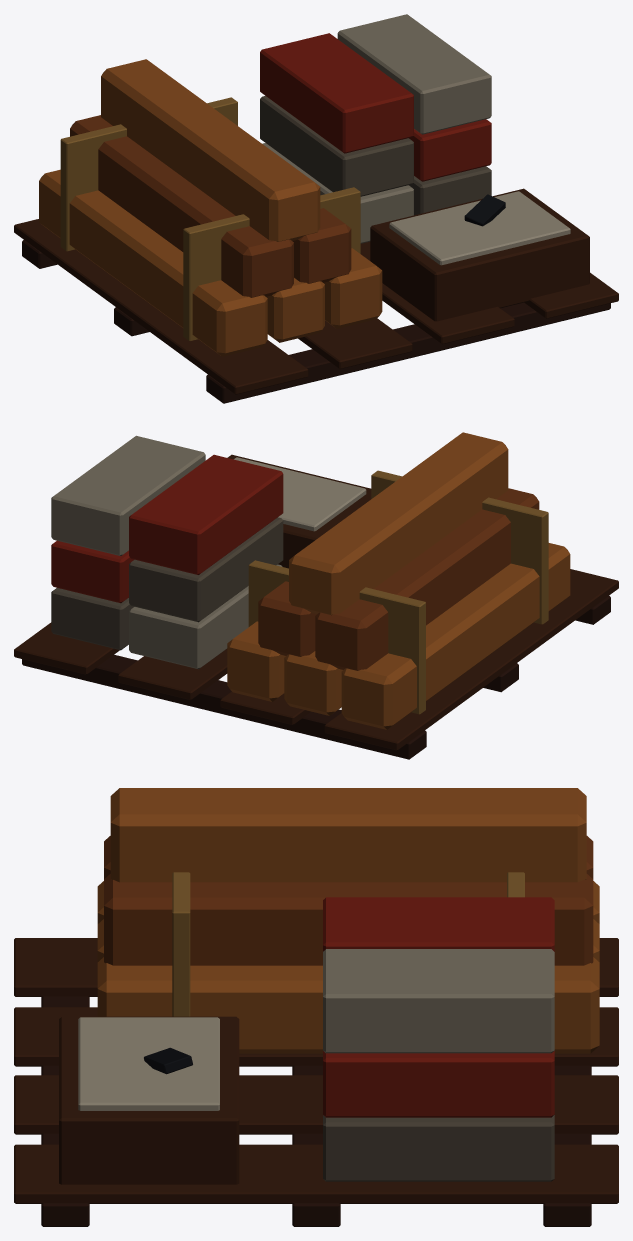
File: mod_site_material_pile.glb
The picture shows the model from 3 angles, top to bottom: view 1: azimuth 30°, elevation 25°; view 2: azimuth 150°, elevation 25°; view 3: azimuth 270°, elevation 25°; orthographic projection. The views are drawn at different scales.
Parts seen in each view (by area): view 1: Mod_Site_Material_Pile; view 2: Mod_Site_Material_Pile; view 3: Mod_Site_Material_Pile.
Boxes of the visible parts, box(x1,y1,x2,y2) form: Mod_Site_Material_Pile: box(14, 14, 618, 403); Mod_Site_Material_Pile: box(14, 432, 618, 759); Mod_Site_Material_Pile: box(14, 788, 618, 1226).
Size of the model in its own units: 1.9 by 0.805 by 1.88.
